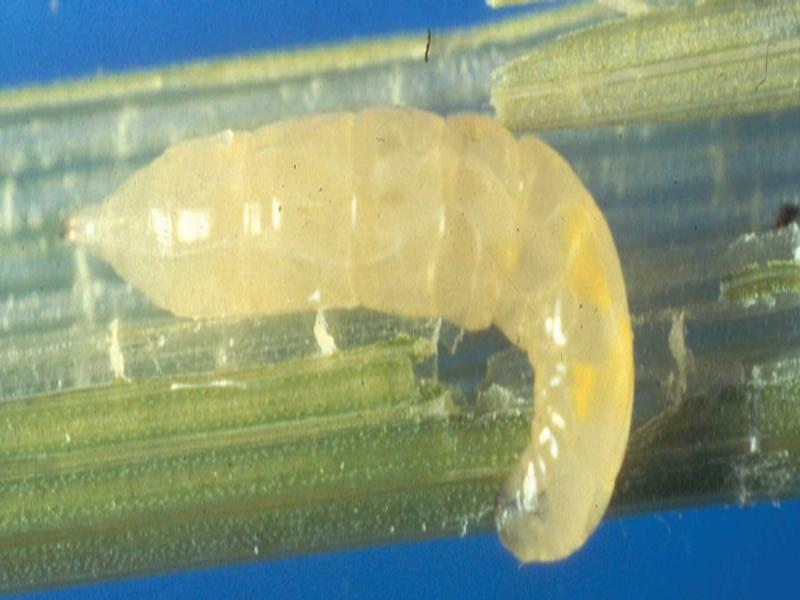Whorl_maggot: (73, 95, 669, 567)
